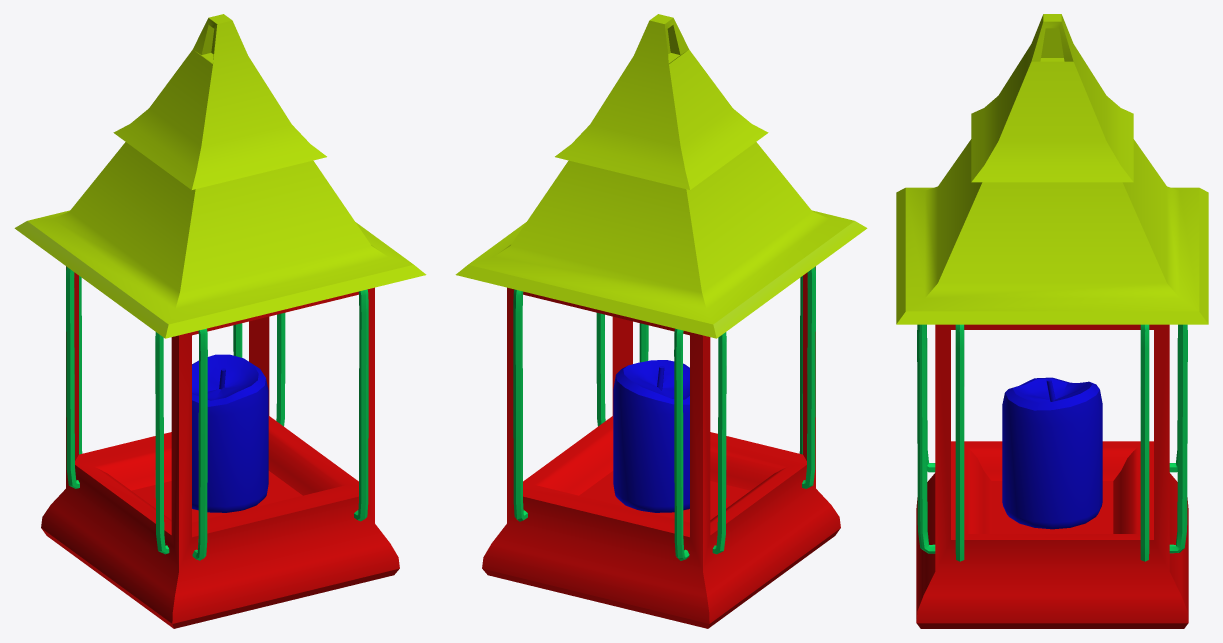
The model's file is lanternSeparetedBody.fbx.
3 renders of one model, left to right at view 1: azimuth 30°, elevation 25°; view 2: azimuth 150°, elevation 25°; view 3: azimuth 270°, elevation 25°, orthographic. The views are drawn at different scales.
Visible parts, largest first — view 1: Cube.004; view 2: Cube.004; view 3: Cube.004.
Part boxes in pixels (bbox=[...]): Cube.004: bbox=[14, 14, 426, 628]; Cube.004: bbox=[455, 14, 867, 628]; Cube.004: bbox=[896, 14, 1208, 628].
Size of the model in its own units: 31.99 by 62.73 by 31.99.
